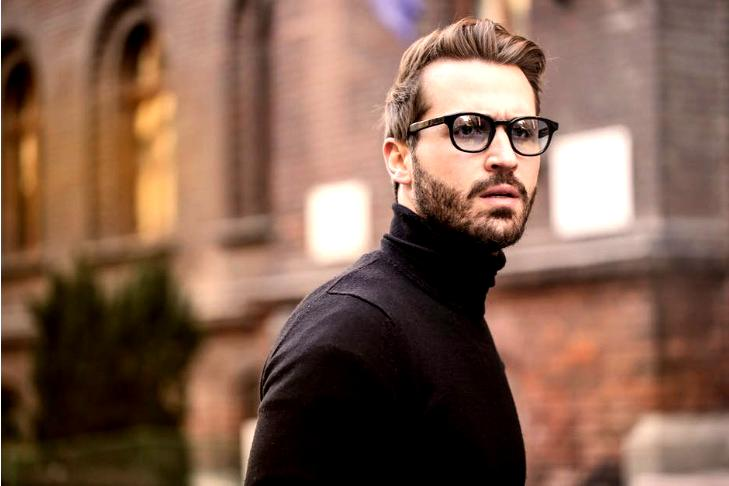face: (415, 61, 541, 246)
